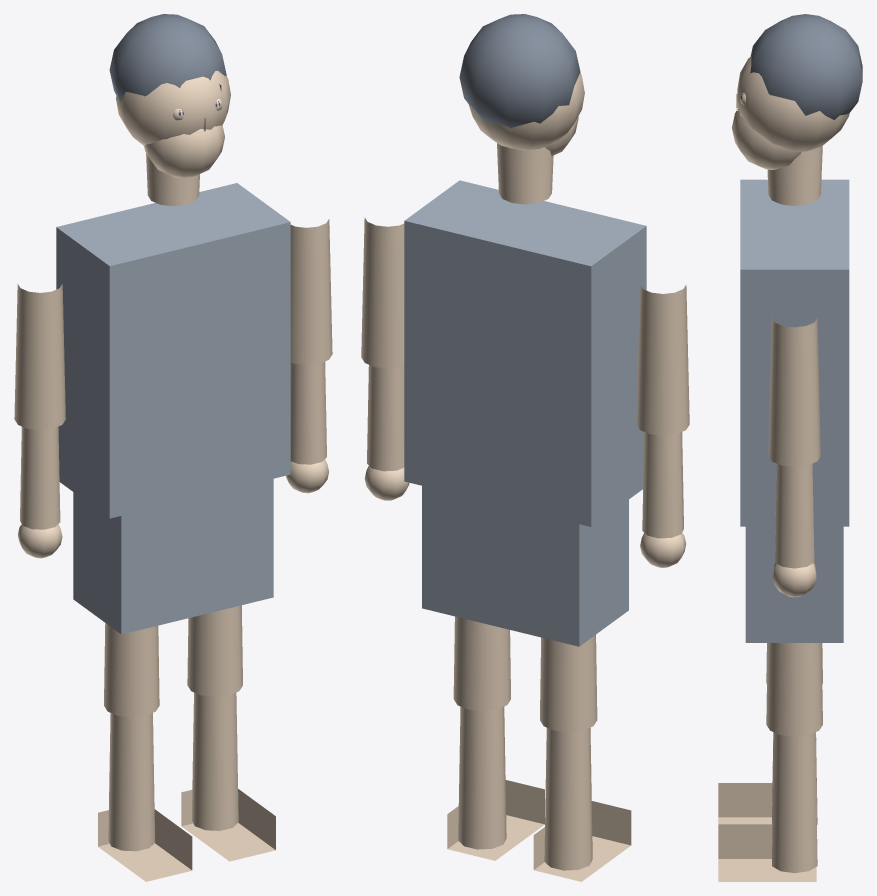
Rendered from body.glb.
3 renders of one model, left to right at view 1: azimuth 30°, elevation 25°; view 2: azimuth 150°, elevation 25°; view 3: azimuth 270°, elevation 25°, orthographic. The views are drawn at different scales.
Parts seen in each view (by area): view 1: Cloth, Skin, Hair; view 2: Cloth, Skin, Hair; view 3: Skin, Cloth, Hair.
Part boxes in pixels (<box>): Cloth: <box>56,183,290,634</box>; Skin: <box>14,70,332,881</box>; Hair: <box>109,14,226,101</box>; Cloth: <box>404,180,646,646</box>; Skin: <box>361,72,689,881</box>; Hair: <box>459,14,580,128</box>; Skin: <box>718,56,849,881</box>; Cloth: <box>740,179,849,642</box>; Hair: <box>747,14,862,119</box>.
Bounding box in the file's own units: 0.6709 × 1.68 × 0.2646.
